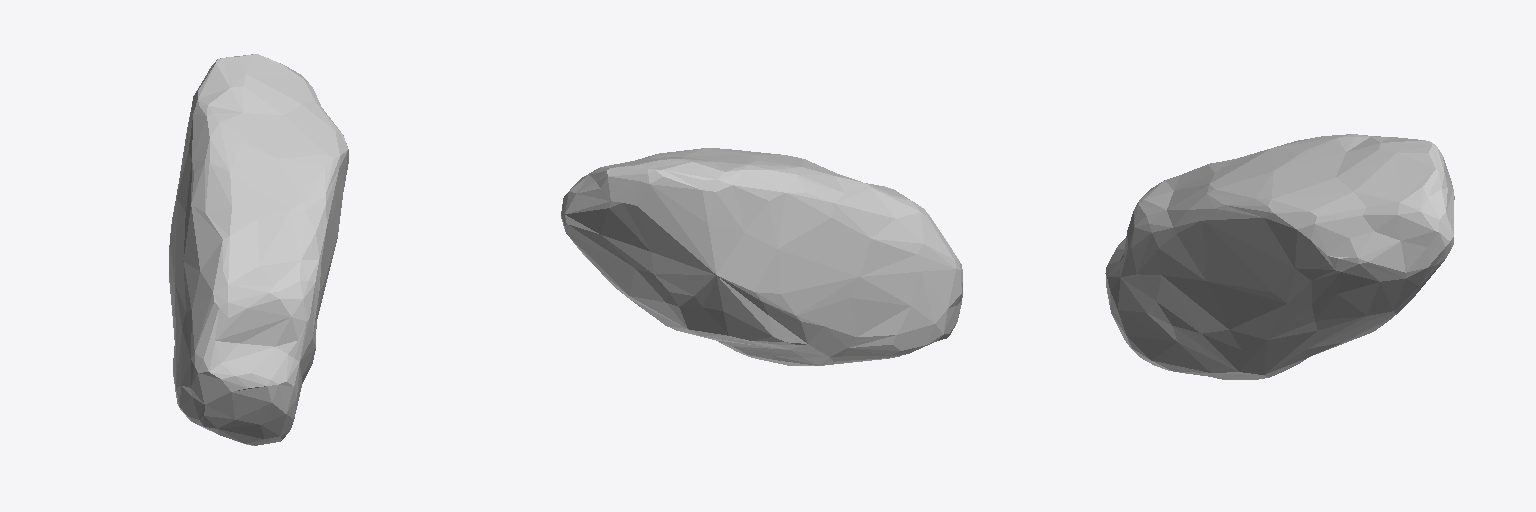
The model's file is rarm.obj.
The picture shows the model from 3 angles: view 1: azimuth 30°, elevation 25°; view 2: azimuth 150°, elevation 25°; view 3: azimuth 270°, elevation 25°; orthographic projection.
Visible parts, largest first — view 1: Stone2; view 2: Stone2; view 3: Stone2.
Boxes of the visible parts, <box> form: Stone2: <box>169,54,348,445</box>; Stone2: <box>561,148,962,365</box>; Stone2: <box>1105,134,1454,379</box>.
Size of the model in its own units: 4.97 by 4.85 by 5.81.